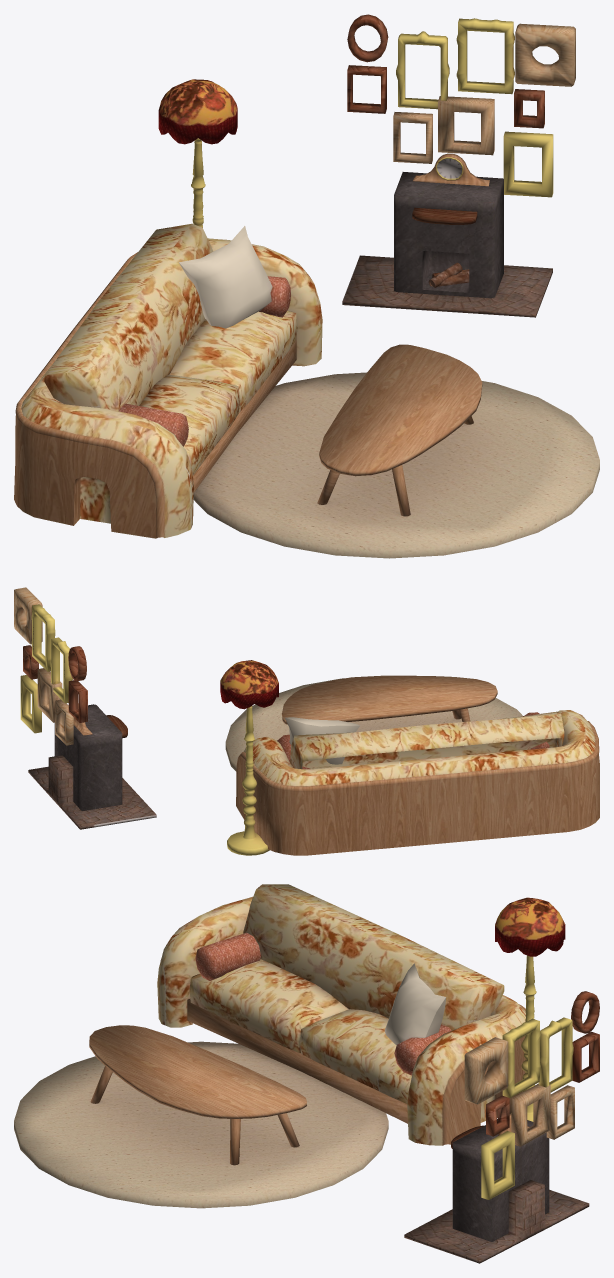
The model's file is mesh_80_room_1.glb.
The picture shows the model from 3 angles, top to bottom: view 1: azimuth 30°, elevation 25°; view 2: azimuth 150°, elevation 25°; view 3: azimuth 270°, elevation 25°; orthographic projection. The views are drawn at different scales.
Parts seen in each view (by area): view 1: mesh_80_room_1; view 2: mesh_80_room_1; view 3: mesh_80_room_1.
Part boxes in pixels (box(x1,y1,x2,y2)): mesh_80_room_1: box(14, 14, 599, 558); mesh_80_room_1: box(14, 587, 599, 855); mesh_80_room_1: box(14, 884, 599, 1263).
Bounding box in the file's own units: 5.23 × 1.88 × 4.46.
1 material, 1 textured.
